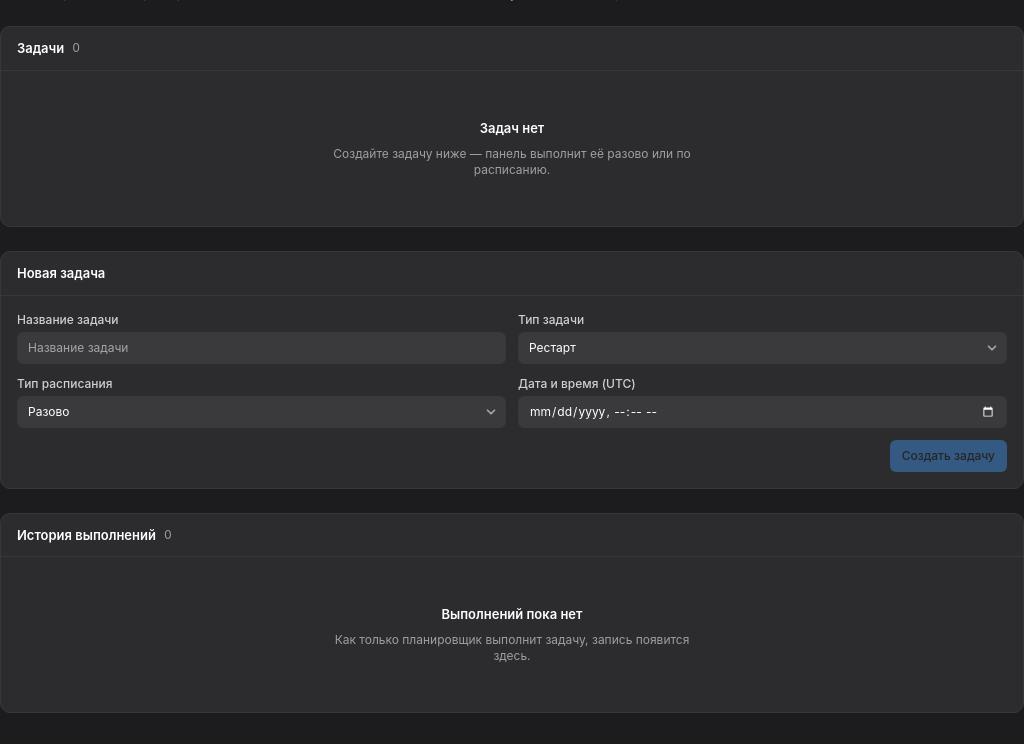
it: SchedulePage › MSG-4 (#187): broadcast rotation, fan-out, and 5-minute floor › disables submit and shows the 5-minute hint for a broadcast recurring more often than 5 minutes
The width and height of the screenshot is (1024, 744).
Expected: the list with test id "scheduled-tasks-list" is shown, top-left (333, 120), bottom-right (691, 177)
Select "Оповещение" in the dropdown labelled "Тип задачи". click: (762, 348)
box: top-left (518, 332), bottom-right (1007, 364)
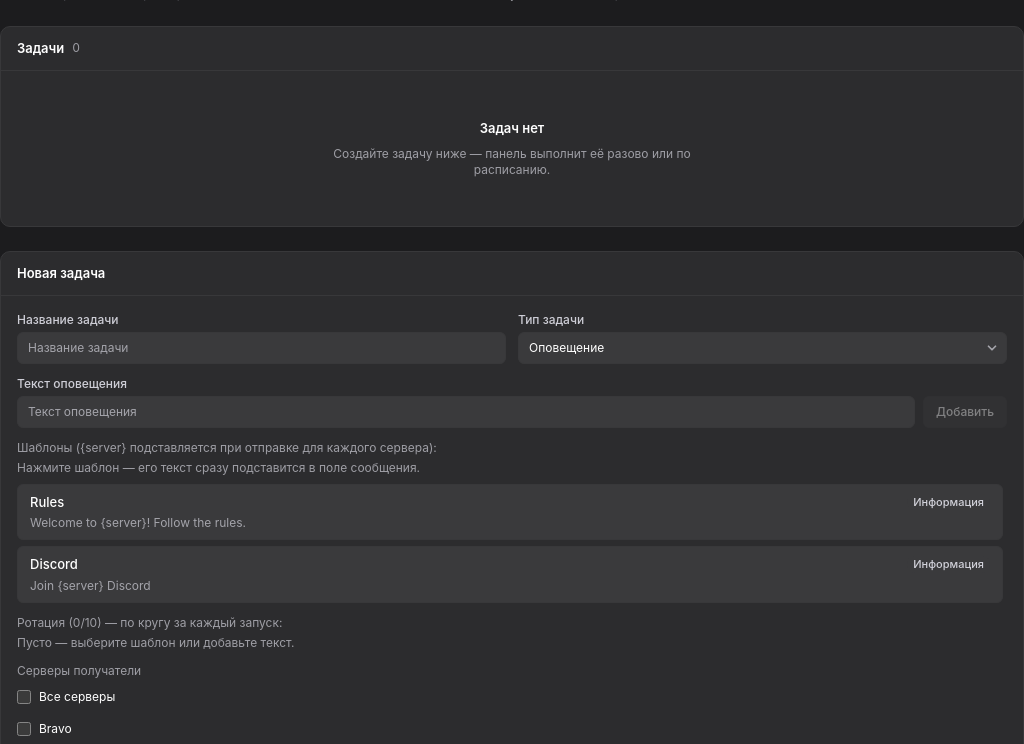
Click the text "Rules". click: click(47, 502)
box: top-left (30, 492), bottom-right (64, 511)
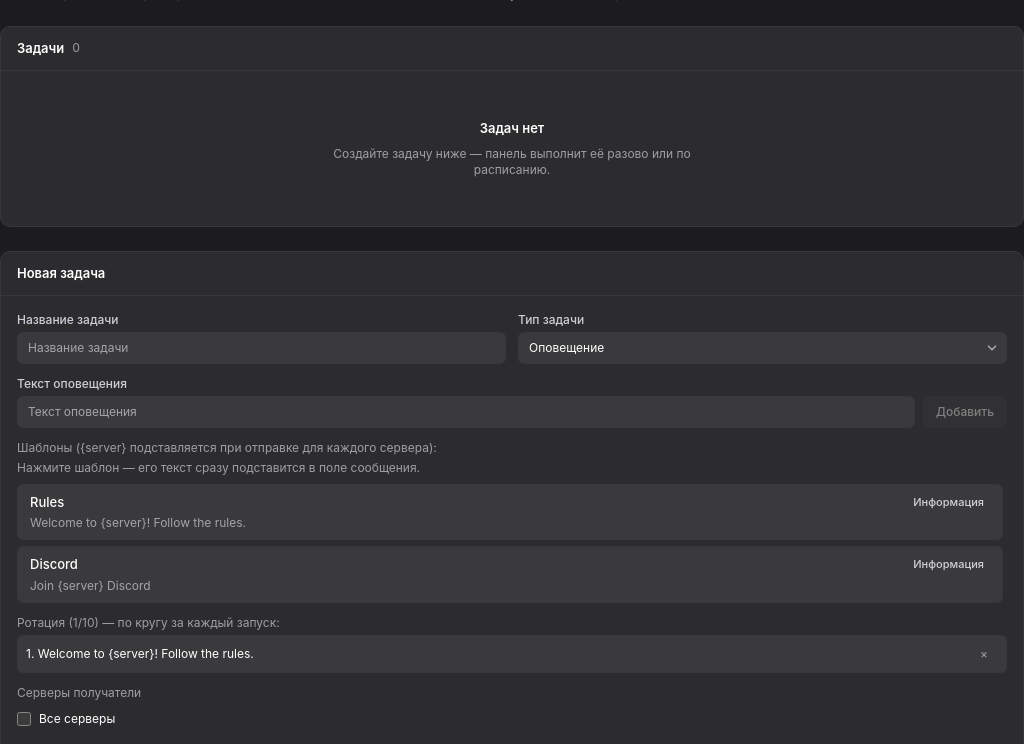
Type "Spammy" into the field with placeholder "Название задачи". click: (262, 348)
box: top-left (17, 332), bottom-right (506, 364)
(page scrolled)
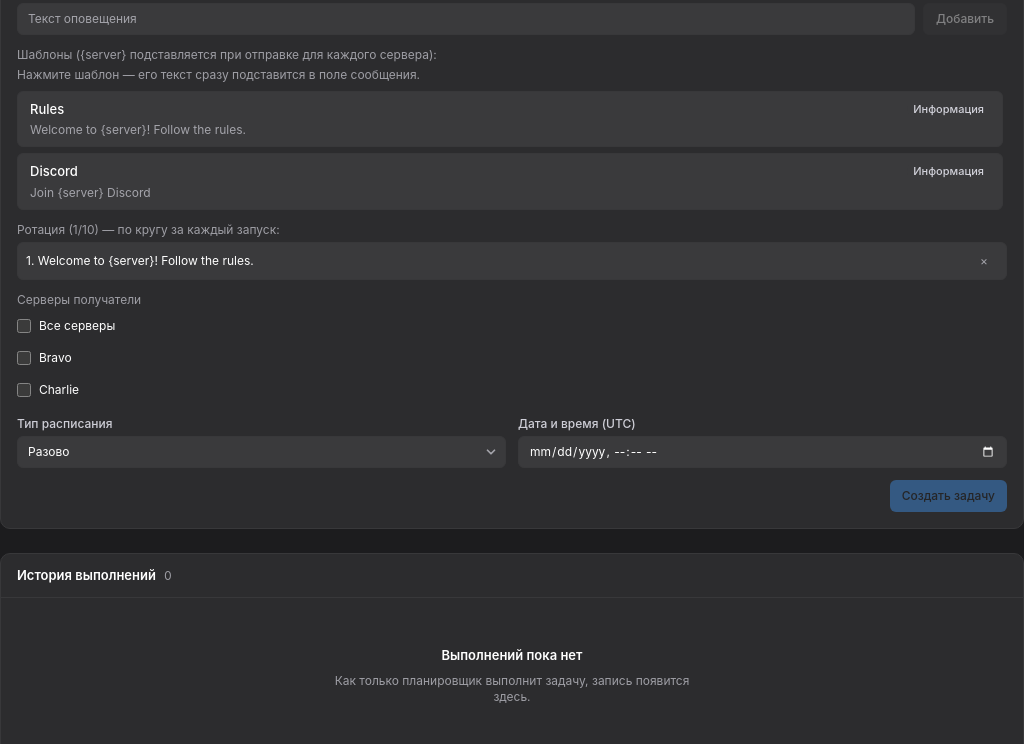
Select "По расписанию (cron)" in the dropdown labelled "Тип расписания". click: (262, 452)
box: top-left (17, 436), bottom-right (506, 468)
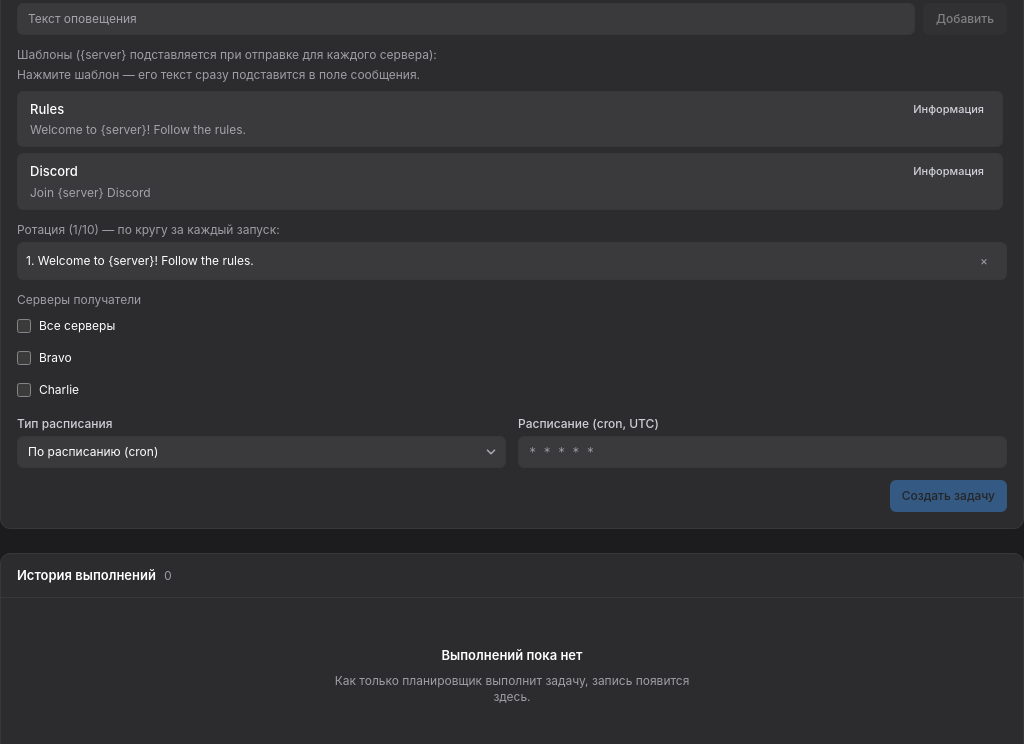
Type "*/2 * * * *" into the field with placeholder "* * * * *". click: (762, 452)
box: top-left (518, 436), bottom-right (1007, 468)
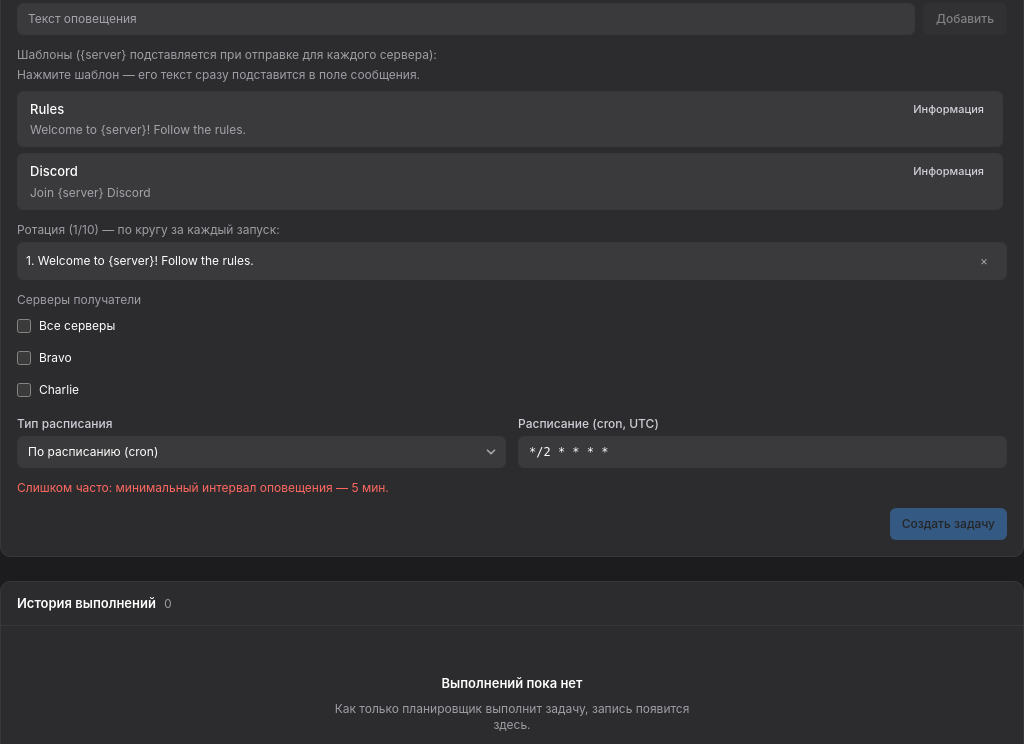
Expected: the button "Создать задачу" is disabled, top-left (890, 508), bottom-right (1007, 540)
Now the text "Слишком часто: минимальный интервал оповещения — 5 мин." is shown, box top-left (17, 480), bottom-right (389, 495)
Replace the text in the field with placeholder "* * * * *" with "*/5 * * * *". click: (762, 452)
box: top-left (518, 436), bottom-right (1007, 468)
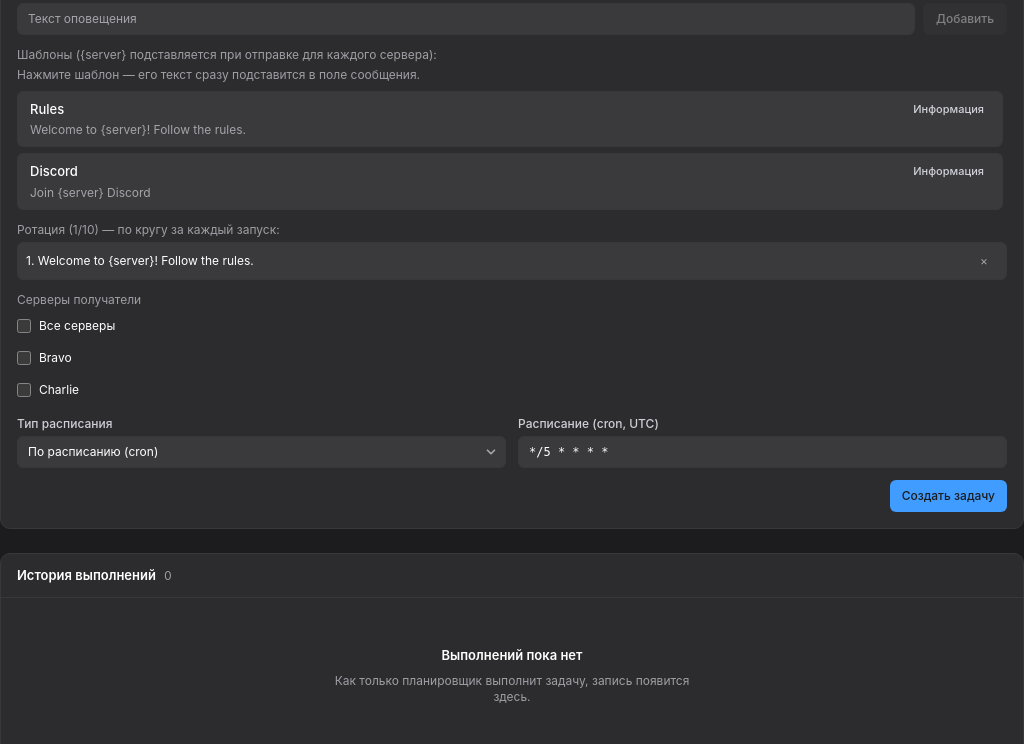
Now the text with test id "broadcast-interval-hint" is gone
Now the button "Создать задачу" is enabled, box top-left (890, 480), bottom-right (1007, 512)
